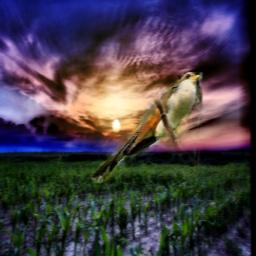Cuckoo: (93, 73, 203, 184)
